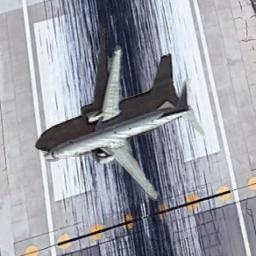Airplane: (34, 43, 205, 201)
